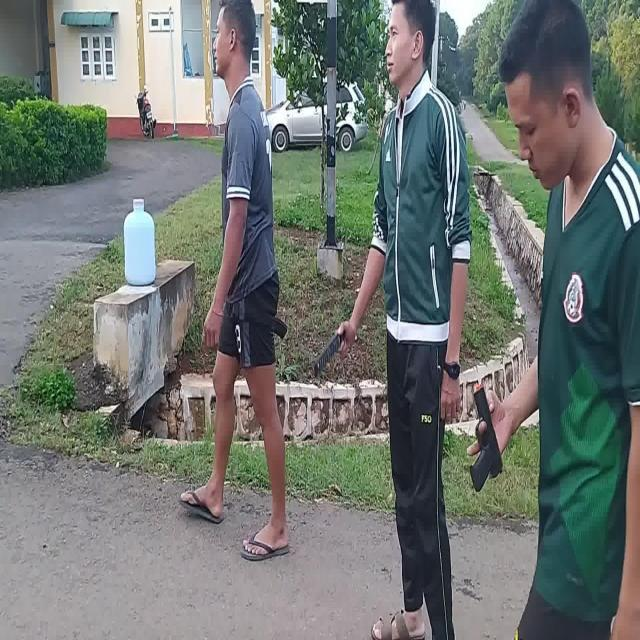gun: (469, 386, 503, 491), (276, 317, 288, 341)
